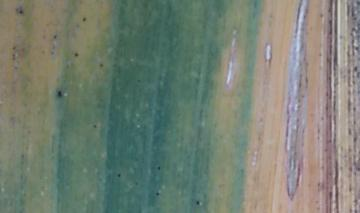tarspot: (55, 89, 63, 98), (17, 8, 25, 16), (73, 50, 80, 58), (97, 61, 104, 69), (10, 52, 16, 61), (115, 172, 122, 179), (135, 77, 142, 84), (155, 164, 161, 172), (80, 15, 86, 23), (52, 33, 58, 41), (194, 199, 200, 206), (91, 122, 97, 129), (154, 190, 160, 196)
